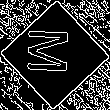M_E: (29, 31, 81, 79)
